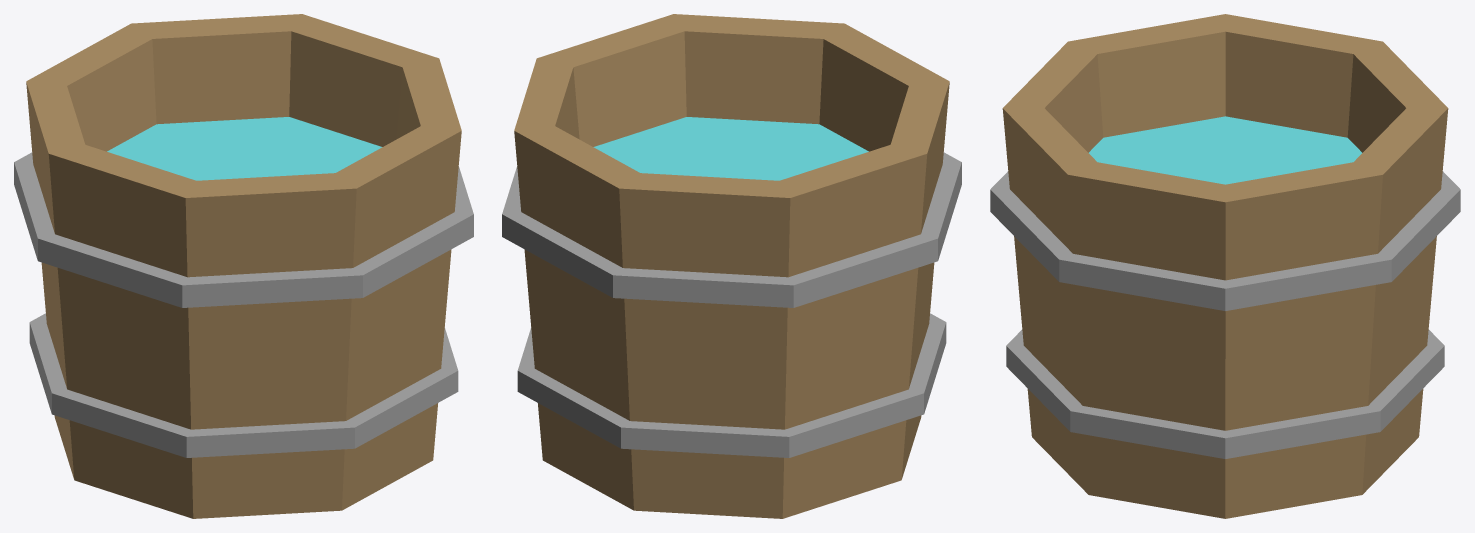
File: bucket.fbx
3 renders of one model, left to right at view 1: azimuth 30°, elevation 25°; view 2: azimuth 150°, elevation 25°; view 3: azimuth 270°, elevation 25°, orthographic.
Parts seen in each view (by area): view 1: ведро, кольцо1, кольцо2; view 2: ведро, кольцо1, кольцо2; view 3: ведро, кольцо1, кольцо2.
Part boxes in pixels (x1,y1,x2,y2): ведро: [26, 14, 461, 518]; кольцо1: [14, 117, 473, 307]; кольцо2: [29, 313, 458, 457]; ведро: [514, 14, 949, 518]; кольцо1: [502, 117, 961, 307]; кольцо2: [517, 313, 946, 457]; ведро: [1002, 14, 1448, 518]; кольцо1: [990, 116, 1460, 310]; кольцо2: [1006, 329, 1444, 458].
Size of the model in its own units: 211 by 163 by 211.
